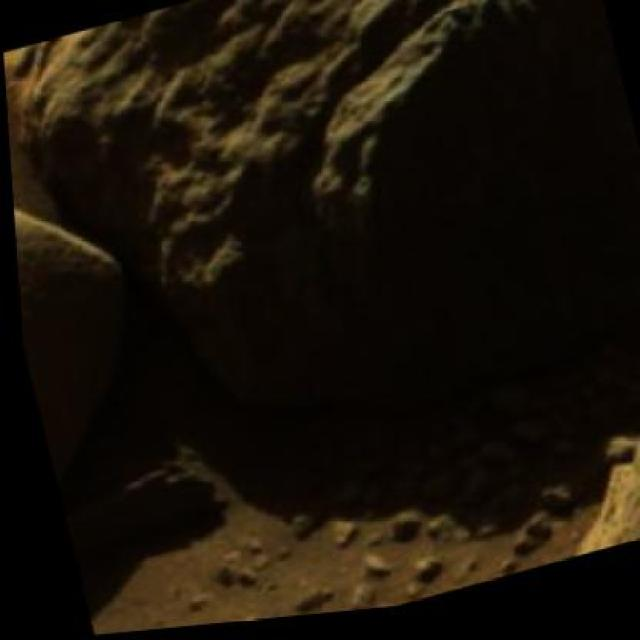rock: (0, 0, 638, 503), (2, 22, 215, 600), (458, 437, 638, 589)
